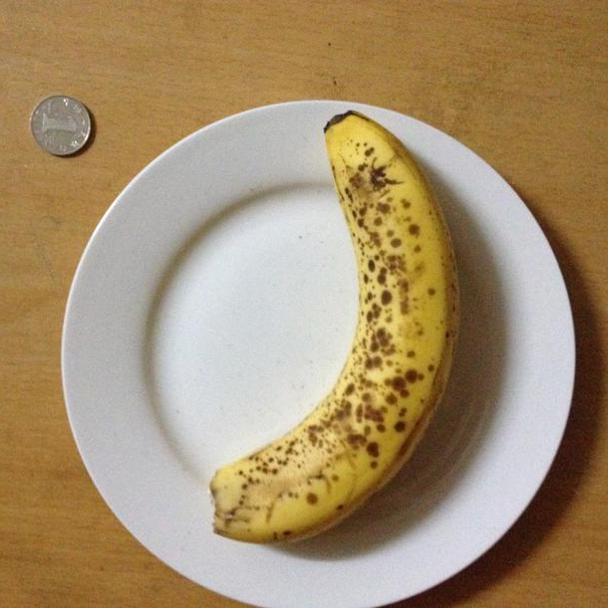banana: (256, 108, 467, 540)
